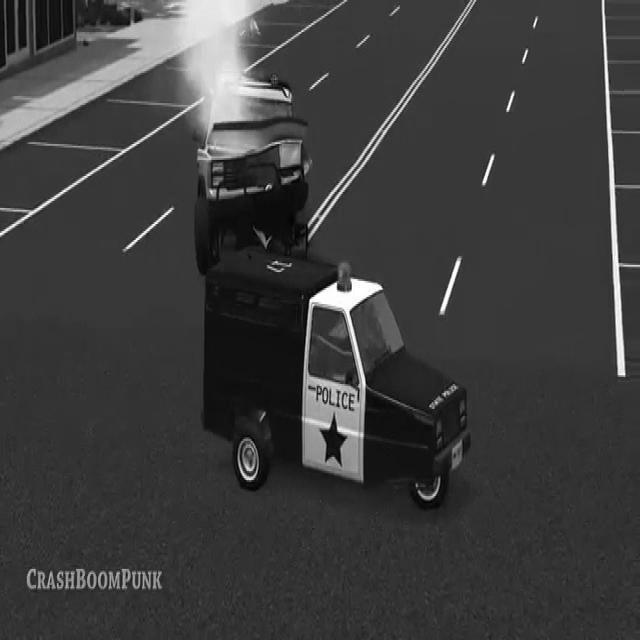accident: (191, 55, 468, 512)
